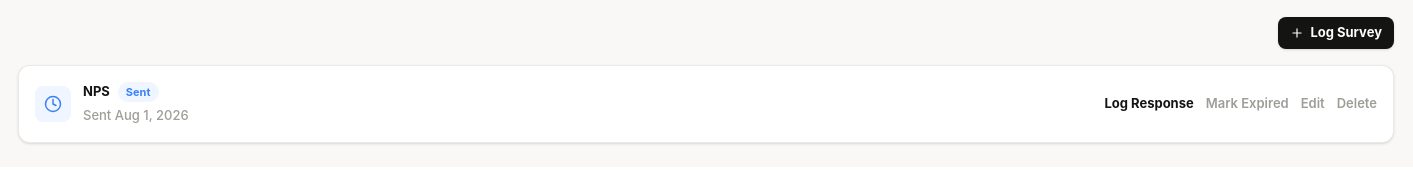
Test: SurveysTab on an organization (moved from the old organization page) › editing a survey's Sent date from the Surveys filter PATCHes it in place
Expected: the text "Sent Aug 1, 2026" is shown, x1=83 y1=107 x2=189 y2=123
Click the button "Edit" at (1313, 104), box x1=1301 y1=94 x2=1325 y2=114
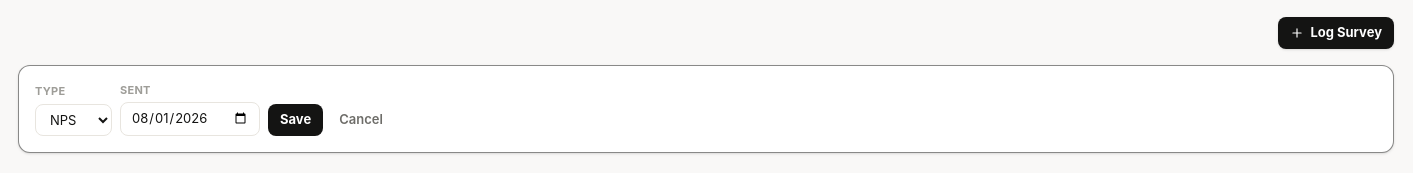
Type "2026-08-10" into the date field showing "2026-08-01" at (190, 119), box x1=120 y1=102 x2=260 y2=136
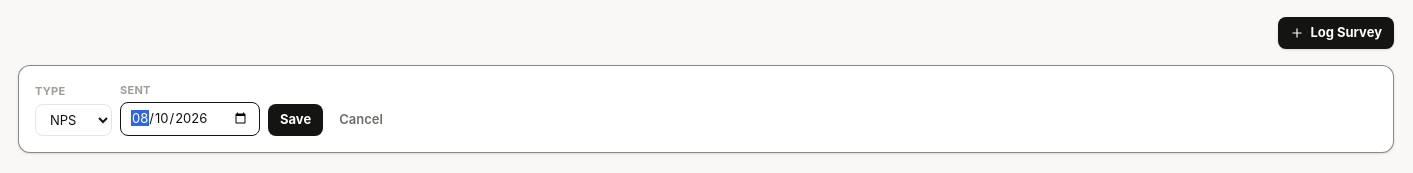
Click the button "Save" at (296, 120), box x1=268 y1=104 x2=323 y2=136
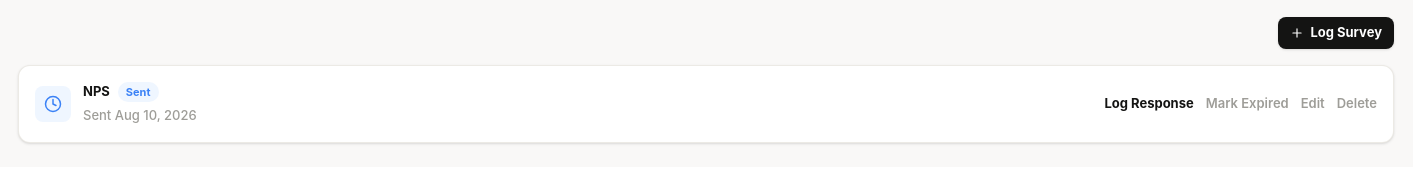
Result: the text "Sent Aug 10, 2026" is shown at x1=83 y1=107 x2=197 y2=123
